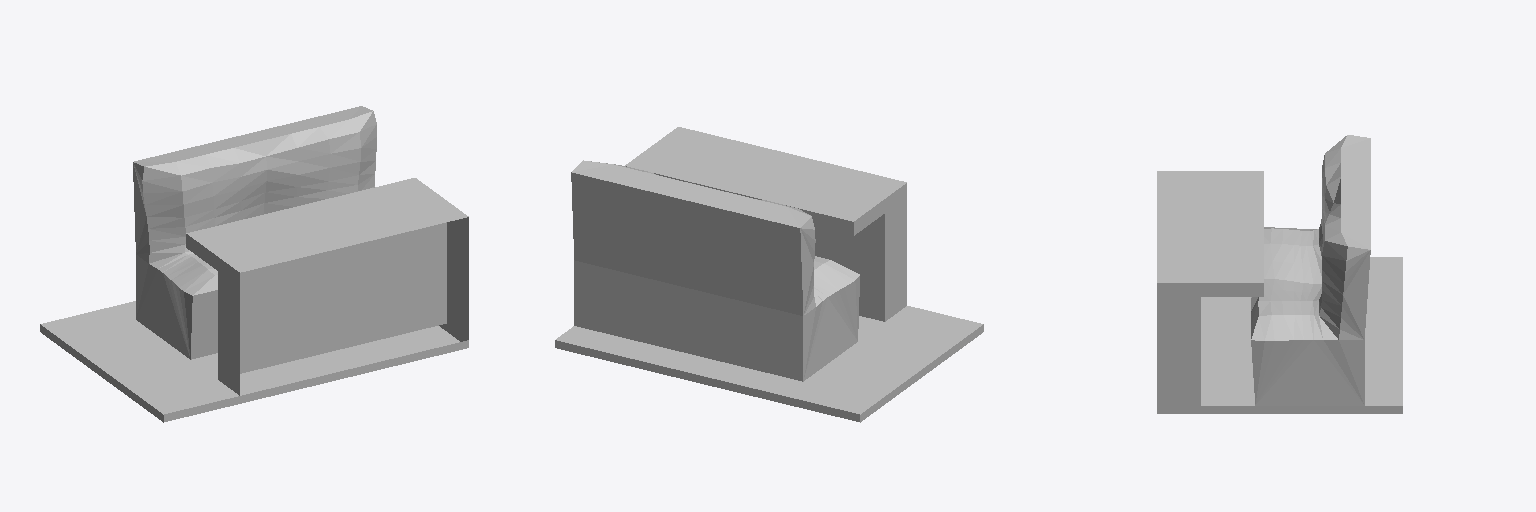
The model's file is insidetrain.obj.
3 views of the same model, side by side, from view 1: azimuth 30°, elevation 25°; view 2: azimuth 150°, elevation 25°; view 3: azimuth 270°, elevation 25° (orthographic).
Parts seen in each view (by area): view 1: Cube; view 2: Cube; view 3: Cube.
Boxes of the visible parts, x1=… form: Cube: x1=40, y1=106, x2=468, y2=422; Cube: x1=555, y1=127, x2=983, y2=422; Cube: x1=1157, y1=135, x2=1402, y2=413.
Bounding box in the file's own units: 2.02 × 1.05 × 1.4.